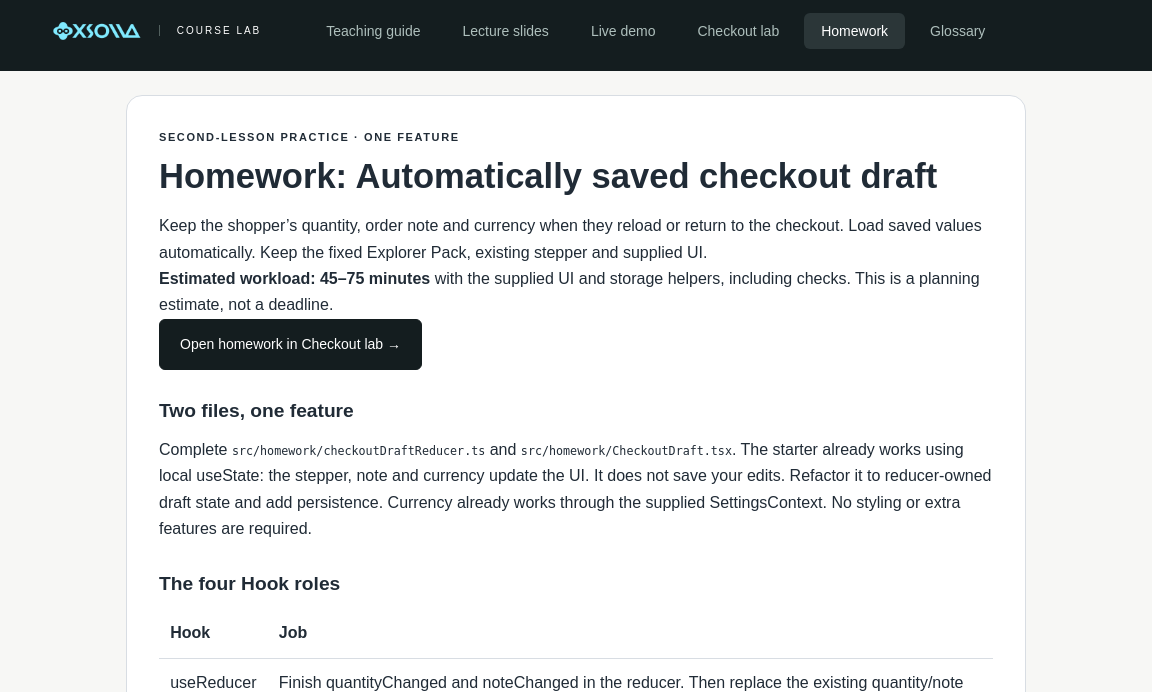
keeps a separate brief before Glossary and homework last in the existing checkout UI
Expected: the text "Estimated workload: 45–75 minutes" is shown, [159,270,430,287]
What coordinates should you click on to do the following:
click the link "Open homework in Checkout lab →"
I would click on:
 (290, 344)
Its box is [159,319,422,370].
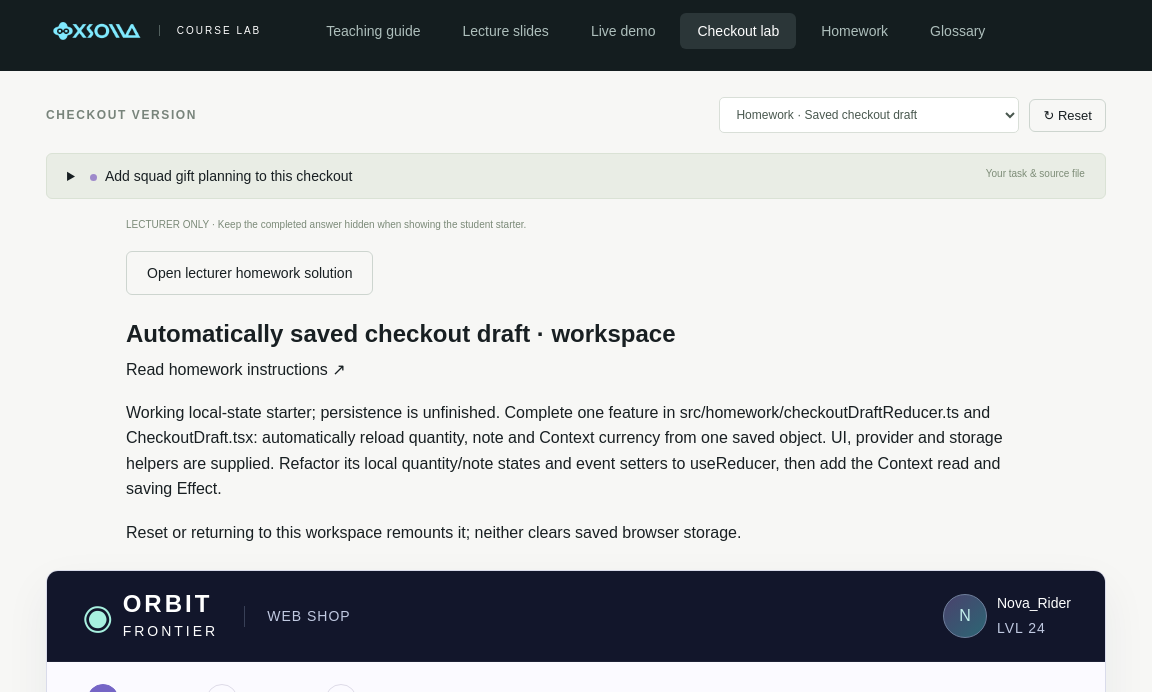
What coordinates should you click on to do the following:
click the link "Read homework instructions ↗"
I would click on:
 (236, 369)
Its box is [126,360,346,379].
(page scrolled)
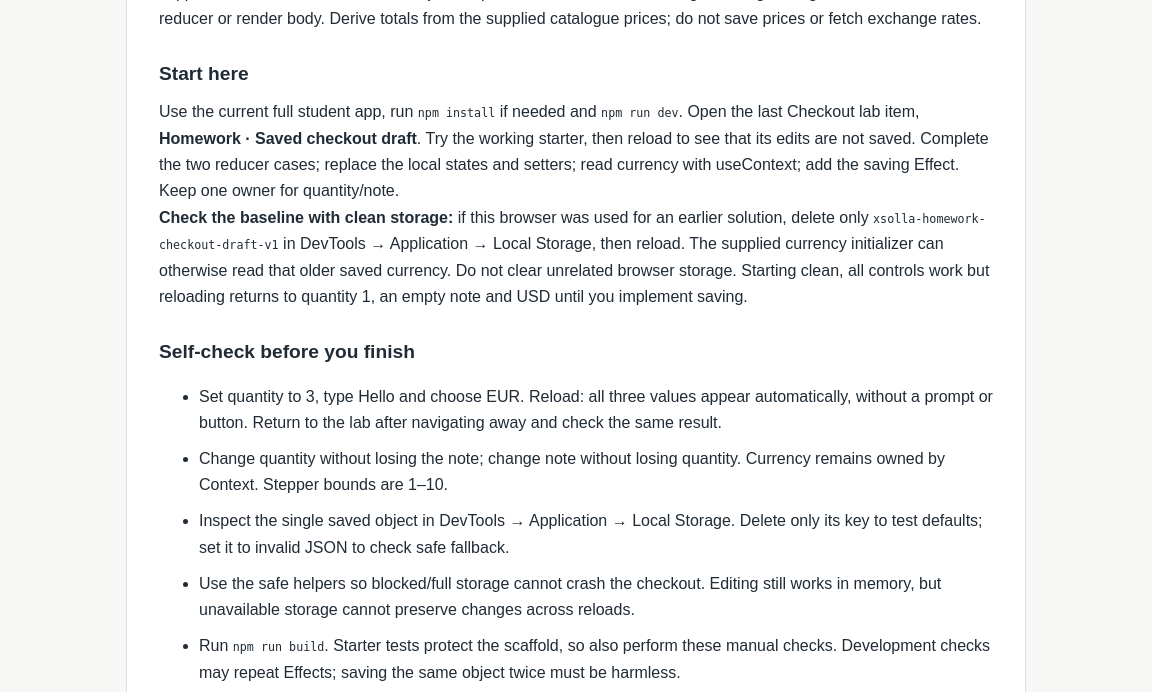
Expected: the heading "Self-check before you finish" is shown, [159,341,415,362]
